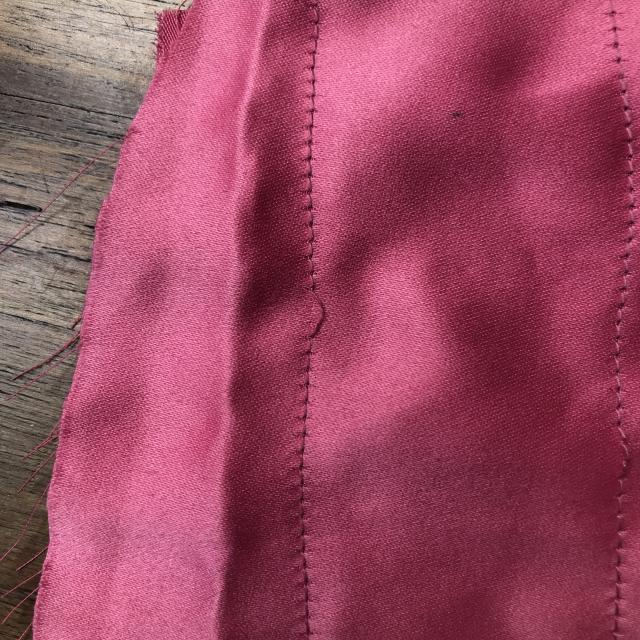skip: (298, 278, 356, 358)
